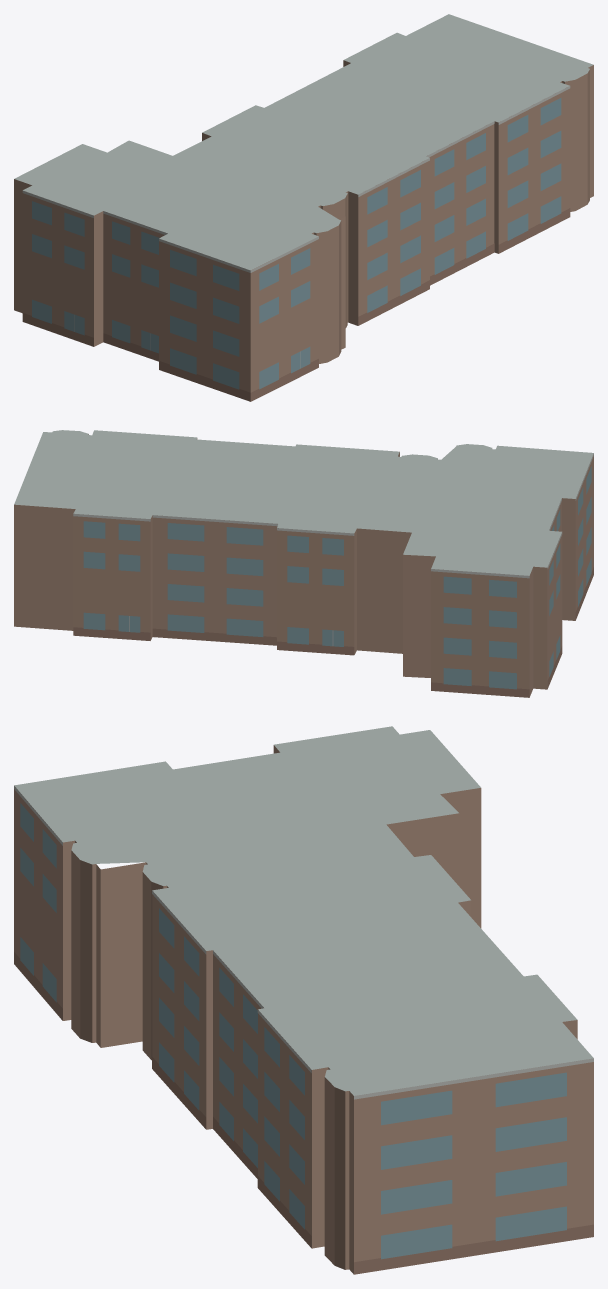
The model's file is survey-upis-32950859.glb.
3 views of the same model, one above another, from view 1: azimuth 30°, elevation 25°; view 2: azimuth 150°, elevation 25°; view 3: azimuth 270°, elevation 25° (orthographic). The views are drawn at different scales.
Parts seen in each view (by area): view 1: survey-upis-32950859.tmp; view 2: survey-upis-32950859.tmp; view 3: survey-upis-32950859.tmp.
Boxes of the visible parts, x1=… form: survey-upis-32950859.tmp: x1=14, y1=14, x2=593, y2=401; survey-upis-32950859.tmp: x1=14, y1=430, x2=593, y2=697; survey-upis-32950859.tmp: x1=14, y1=726, x2=593, y2=1274.
Size of the model in its own units: 54.17 by 12.2 by 35.9.
